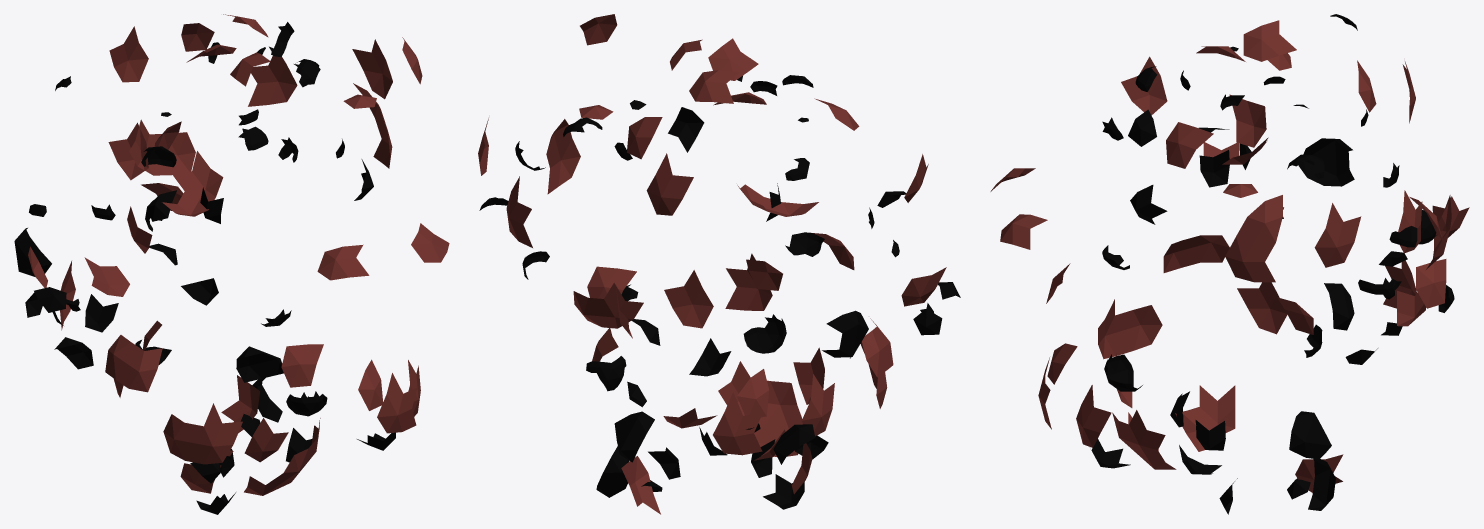
The model's file is explode.f0015.glb.
3 renders of one model, left to right at view 1: azimuth 30°, elevation 25°; view 2: azimuth 150°, elevation 25°; view 3: azimuth 270°, elevation 25°, orthographic. The views are drawn at different scales.
Visible parts, largest first — view 1: Body.001; view 2: Body.001; view 3: Body.001.
Boxes of the visible parts, left/top/right/bottom form: Body.001: left=14, top=14, right=449, bottom=514; Body.001: left=478, top=14, right=960, bottom=514; Body.001: left=990, top=14, right=1469, bottom=514.
Bounding box in the file's own units: 6.8 × 7.38 × 6.74.
1 material, 1 textured.
